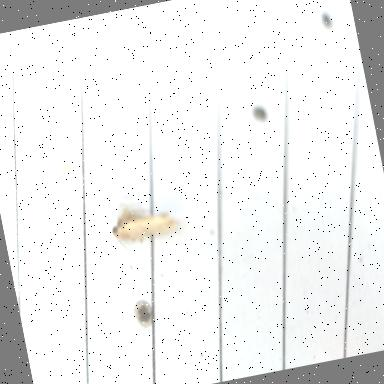pbw: (106, 197, 184, 253)
